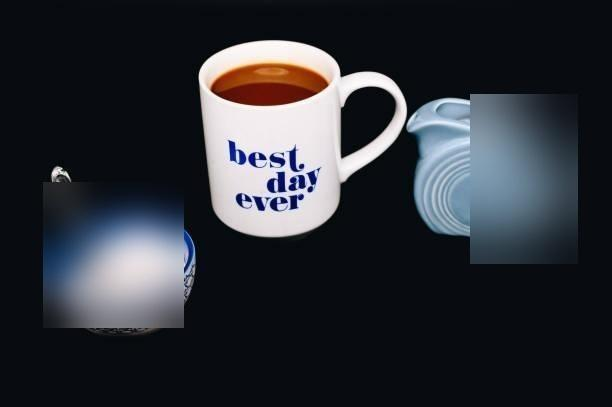cup-handle: (197, 39, 407, 239)
